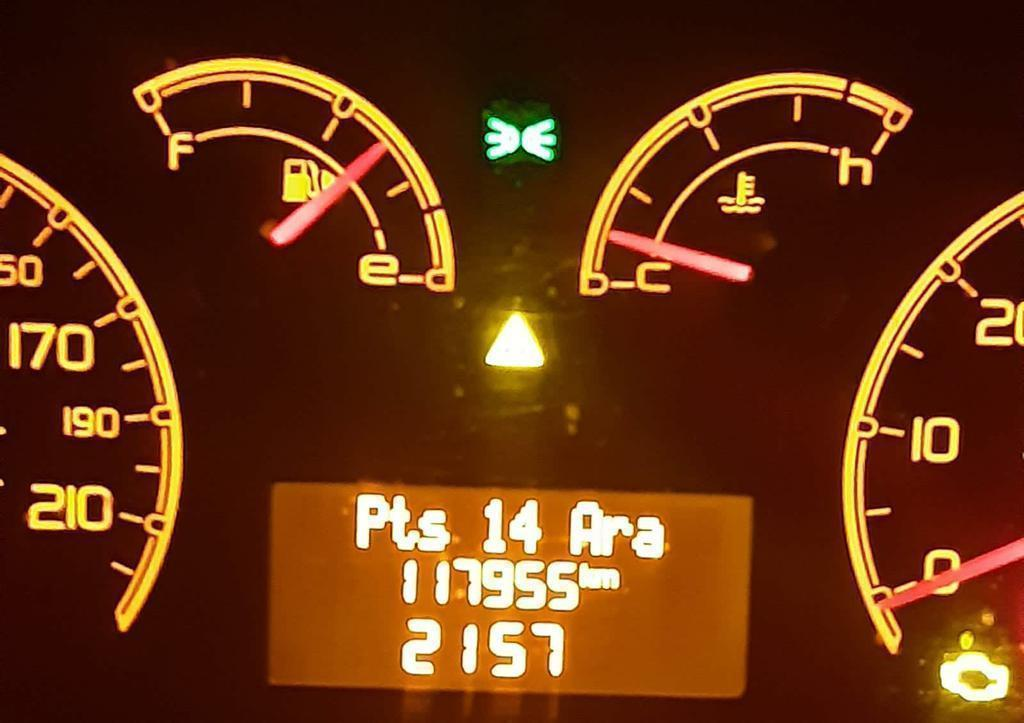1: (480, 492, 508, 556), (457, 615, 481, 680), (400, 555, 421, 605), (434, 557, 449, 608)
2: (398, 615, 444, 676)
4: (510, 495, 546, 555)
5: (490, 618, 525, 680), (547, 556, 579, 613), (516, 555, 546, 612)
7: (531, 620, 566, 678), (453, 555, 480, 608)
9: (482, 557, 513, 611)
X: (354, 490, 389, 550), (569, 497, 601, 559), (389, 491, 418, 553), (418, 505, 452, 553), (602, 511, 631, 560), (634, 513, 664, 559), (595, 565, 621, 591), (579, 559, 595, 590)
odometer: (268, 478, 761, 701)
